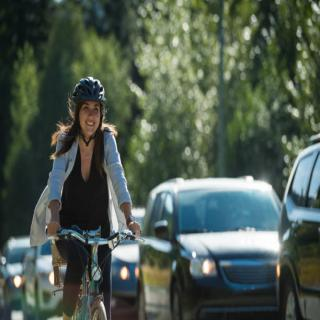Normal_vehicle: (142, 183, 295, 316), (275, 133, 320, 319), (114, 204, 158, 306), (33, 237, 79, 307), (4, 242, 51, 307)
